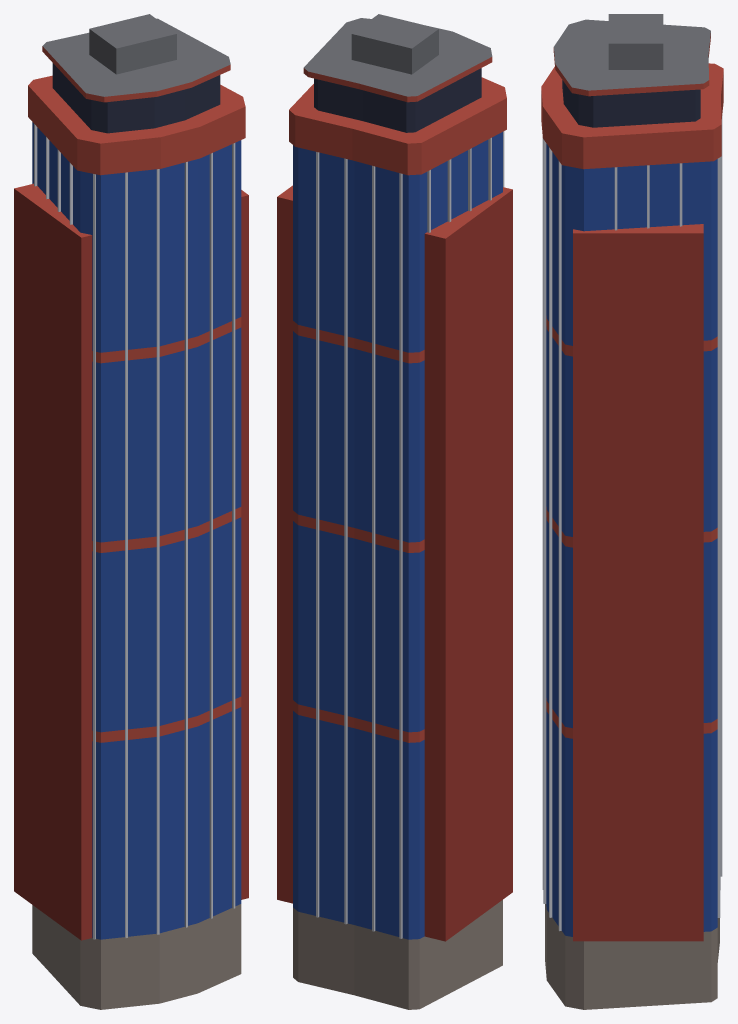
Rendered from voodoo_rooftop_w134938479.glb.
3 views of the same model, side by side, from view 1: azimuth 30°, elevation 25°; view 2: azimuth 150°, elevation 25°; view 3: azimuth 270°, elevation 25° (orthographic).
Parts seen in each view (by area): view 1: Tower; view 2: Tower; view 3: Tower.
Part boxes in pixels (x1,y1,x2,y2): Tower: [14, 14, 248, 1009]; Tower: [277, 14, 512, 1009]; Tower: [541, 14, 723, 1009].
Bounding box in the file's own units: 25.2 × 133 × 23.38.
